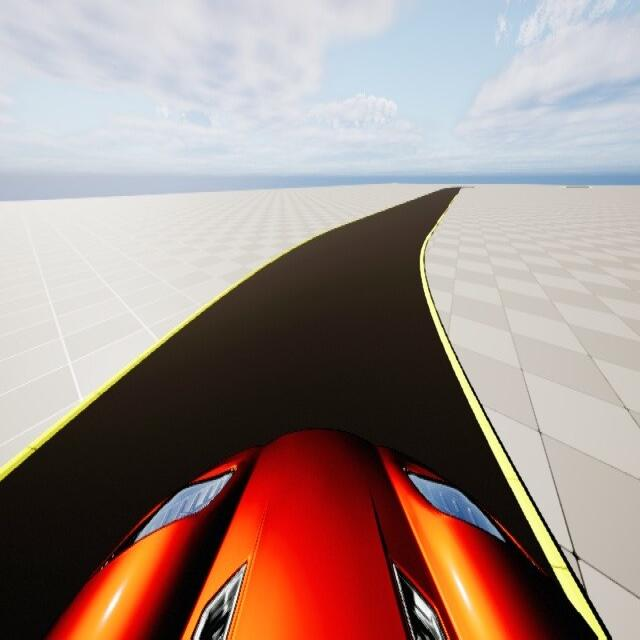lane: (0, 189, 615, 639)
